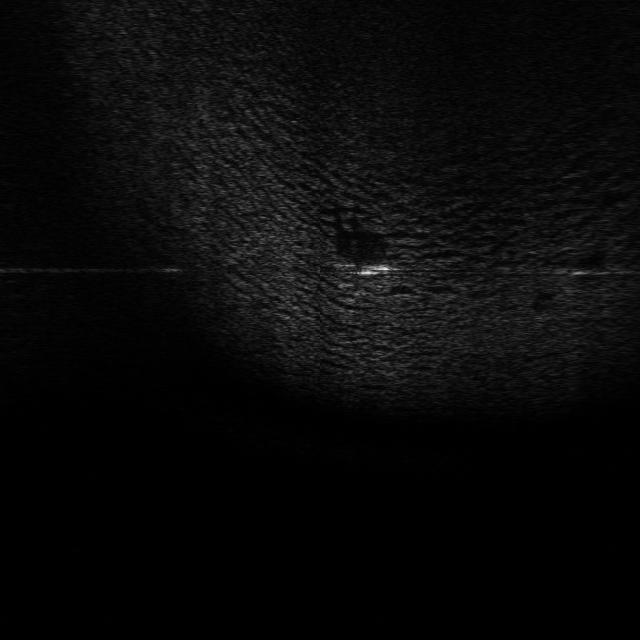plane: (339, 257, 397, 278)
